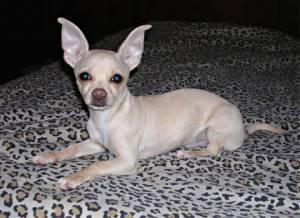dog-chihuahua: (55, 15, 150, 108)
